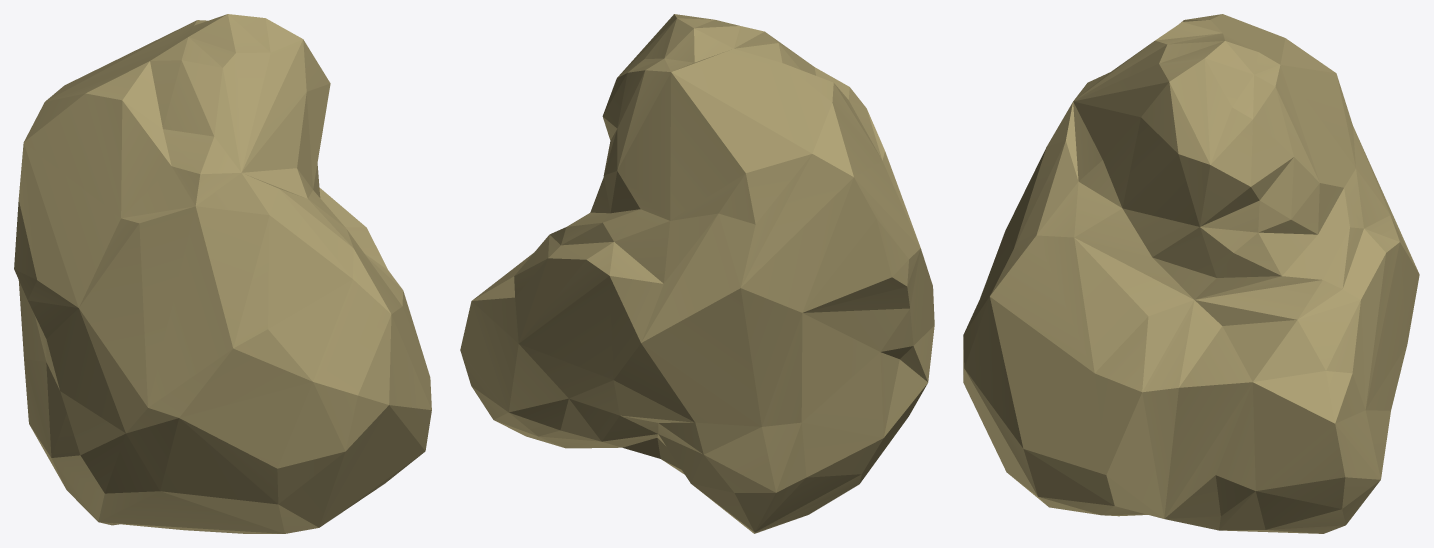
File: SM_rock_27.fbx
3 renders of one model, left to right at view 1: azimuth 30°, elevation 25°; view 2: azimuth 150°, elevation 25°; view 3: azimuth 270°, elevation 25°, orthographic. The views are drawn at different scales.
Visible parts, largest first — view 1: rock_27; view 2: rock_27; view 3: rock_27.
Boxes of the visible parts, box(x1,y1,x2,y2) form: rock_27: box(14, 14, 431, 533); rock_27: box(460, 14, 934, 533); rock_27: box(963, 14, 1419, 533).
Bounding box in the file's own units: 157 × 182 × 154.
